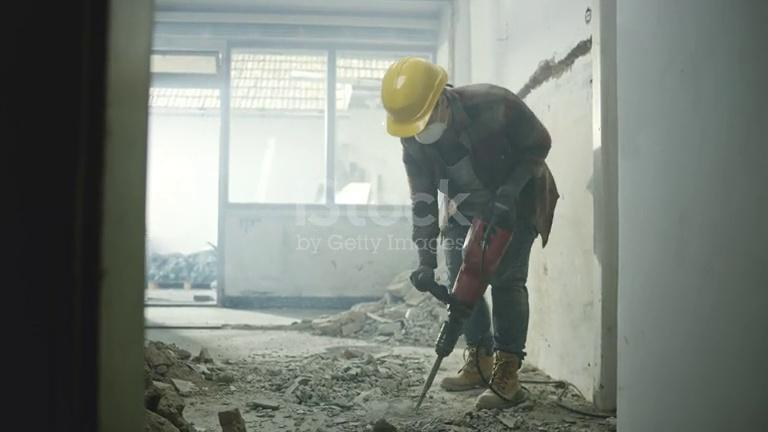helmet: (381, 55, 449, 138)
mask: (414, 120, 446, 145)
person: (380, 56, 560, 410)
